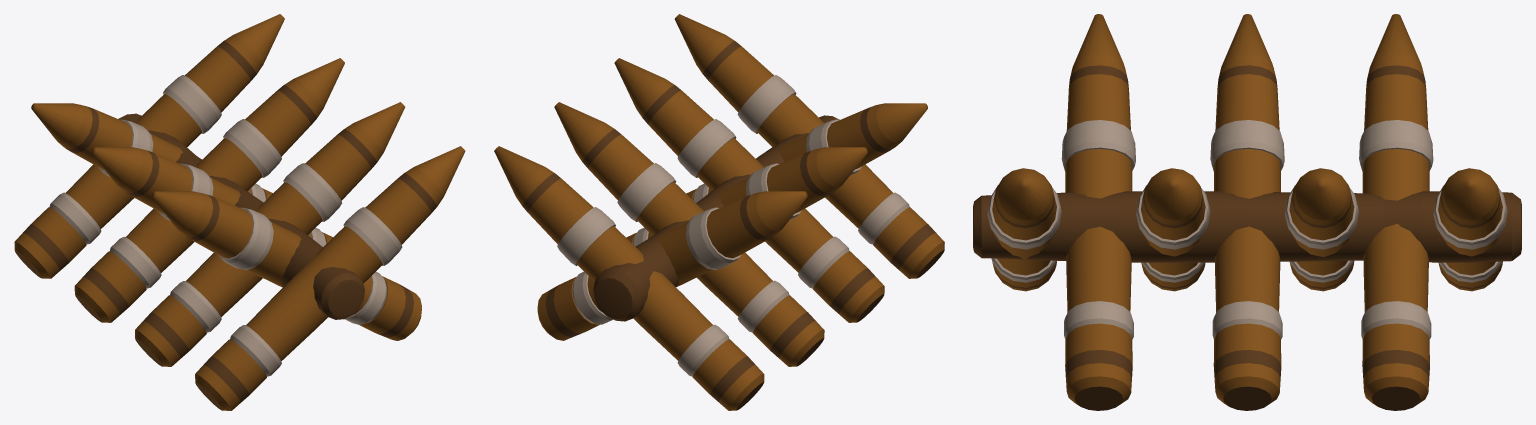
Rendered from Spikes.fbx.
3 views of the same model, side by side, from view 1: azimuth 30°, elevation 25°; view 2: azimuth 150°, elevation 25°; view 3: azimuth 270°, elevation 25° (orthographic). The views are drawn at different scales.
Parts seen in each view (by area): view 1: Cylinder.008; view 2: Cylinder.008; view 3: Cylinder.008.
Boxes of the visible parts, x1,y1,x2,y2 form: Cylinder.008: (14,14,465,410); Cylinder.008: (494,14,944,410); Cylinder.008: (973,14,1521,410).
Bounding box in the file's own units: 129 × 89.7 × 176.
